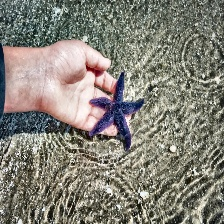starfish: (0, 37, 144, 153)
